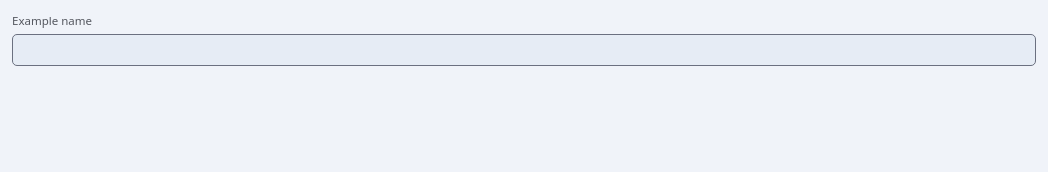
Test: types into the field and reports the change
Click the field labelled "Example name" at [524, 50], box [12,34,1036,66]
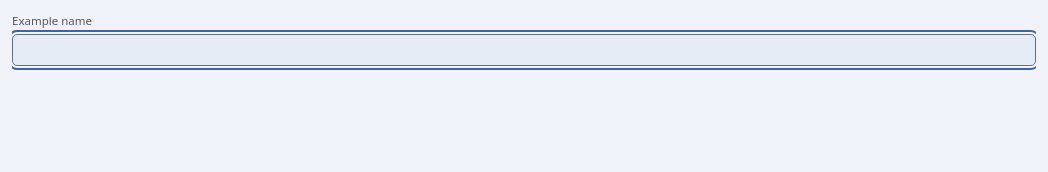
Type keys "abc"
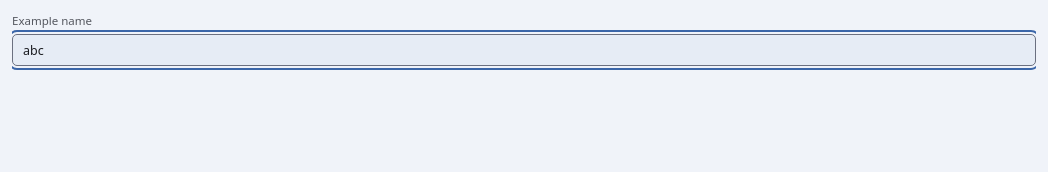
Expected: the field labelled "Example name" holds "abc", [12,34,1036,66]
